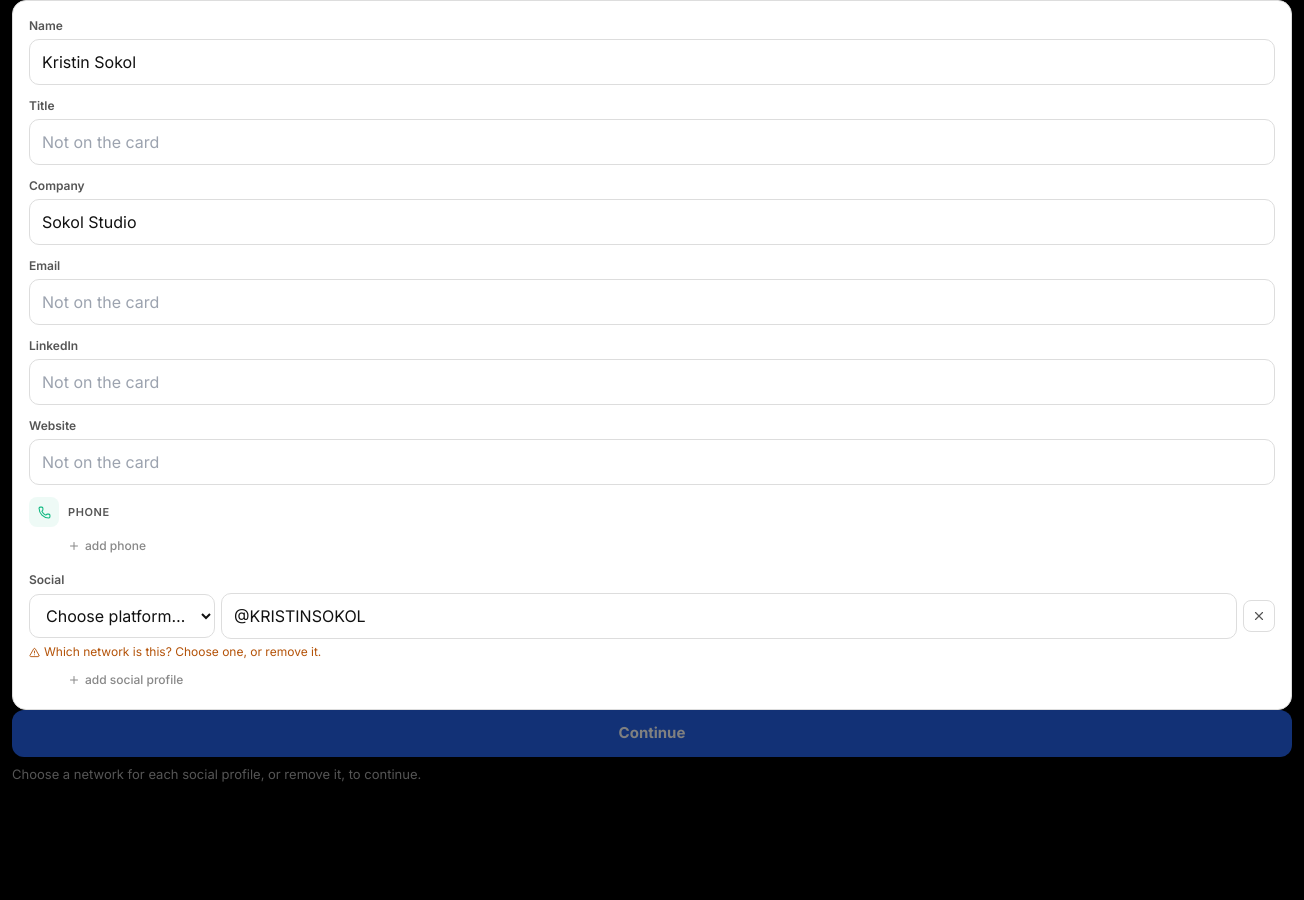
Test case: review: the Social section › a bare @handle asks which network; Continue waits until the user chooses
The width and height of the screenshot is (1304, 900).
Expected: the text "Which network is this? Choose one, or remove it." is shown, [29,644,321,659]
Expected: the button "Continue" is disabled, [12,710,1292,756]
Step 1. Select "Instagram" in the dropdown named "Platform for @KRISTINSOKOL" → (122, 616), box [29,594,215,638]
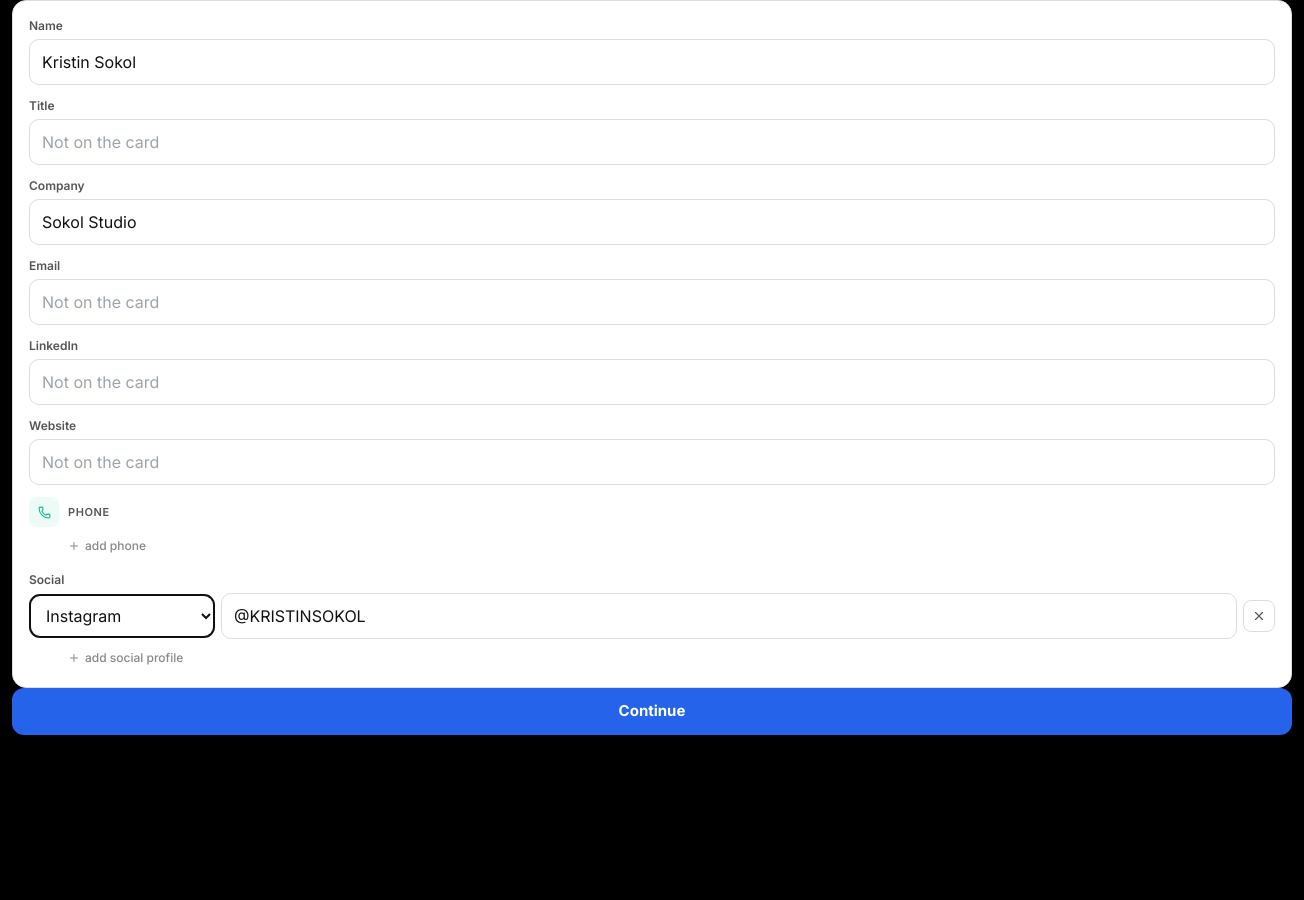
Expected: the text "Which network is this?" is gone
Expected: the button "Continue" is enabled, [12,688,1292,734]
